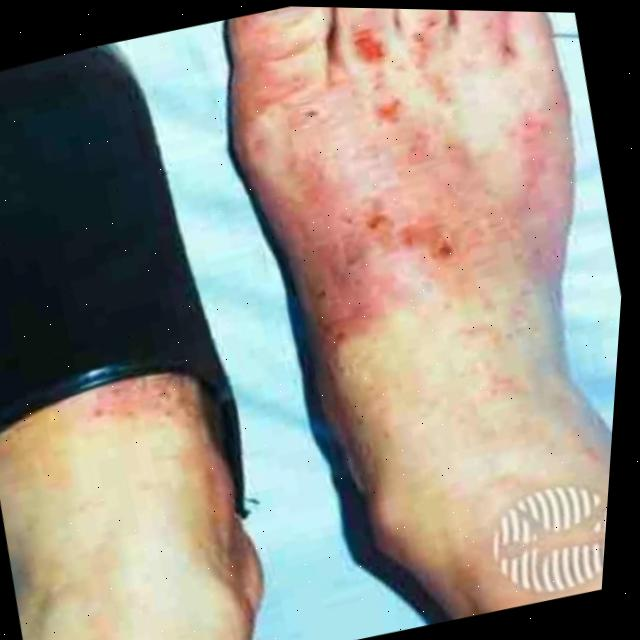Eczema: (256, 15, 583, 346), (74, 362, 179, 461)
